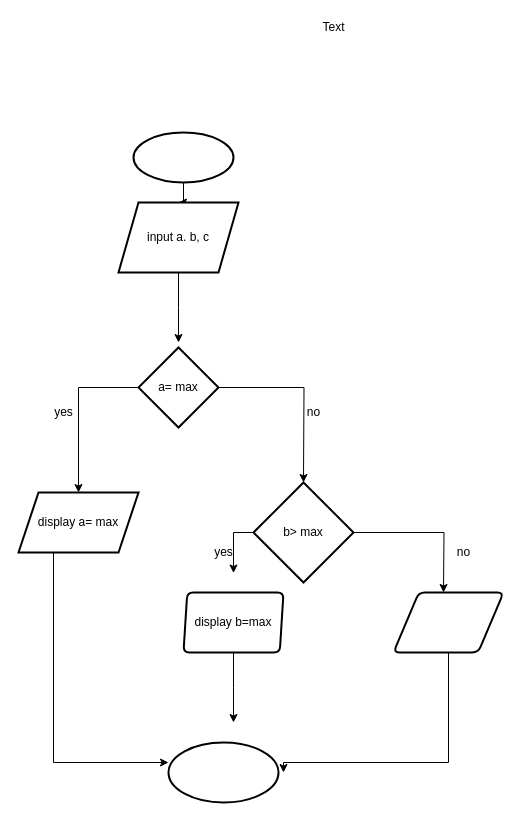
The diagram is 521 pixels wide and 820 high, and some of its shapes have lost their labels. The shapes that lost their labels are listed below. From the top down, each one's centre as x and y in pixels, then its label:
(183,157): start
(448,622): display c= max
(223,772): stop
